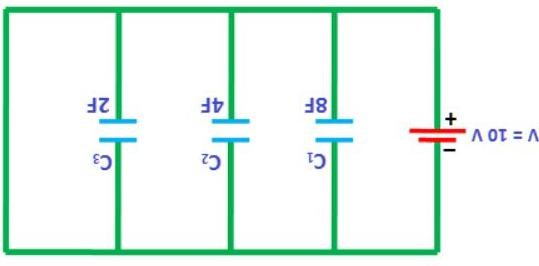Capacitor: (310, 109, 364, 149)
